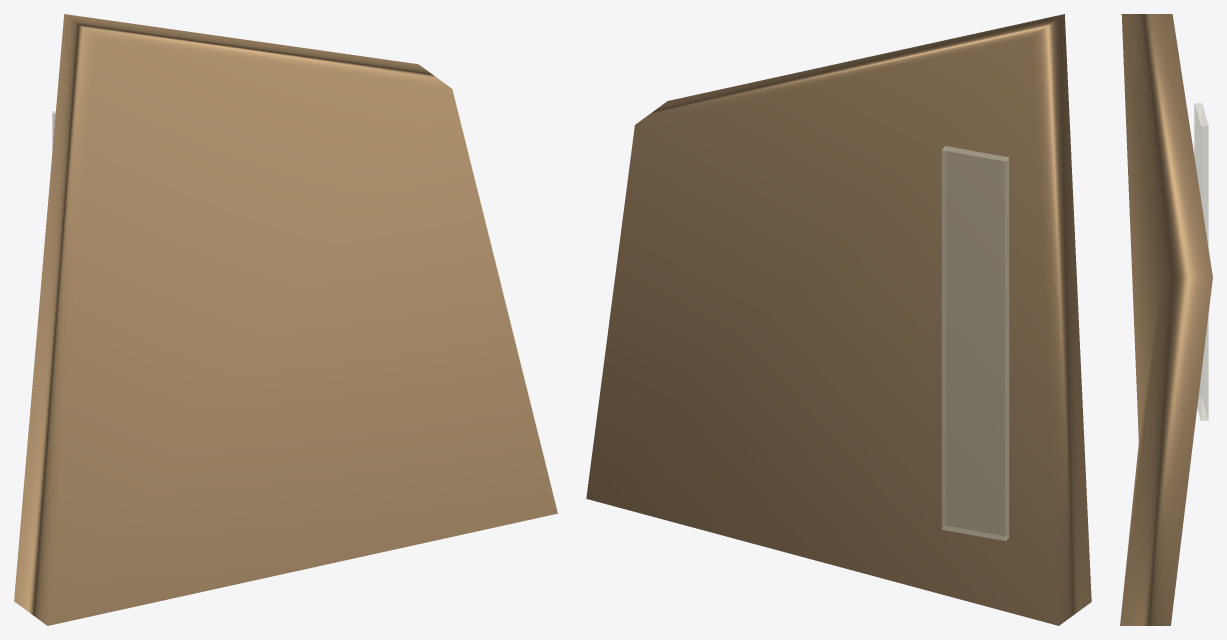
The model's file is cardboard_fin_warped.glb.
The picture shows the model from 3 angles, left to right: view 1: azimuth 30°, elevation 25°; view 2: azimuth 150°, elevation 25°; view 3: azimuth 270°, elevation 25°; orthographic projection. The views are drawn at different scales.
Parts seen in each view (by area): view 1: RW3_Cardboard_Fin_Warped; view 2: RW3_Cardboard_Fin_Warped, RW3_Fin_Tape_Warped; view 3: RW3_Cardboard_Fin_Warped, RW3_Fin_Tape_Warped.
Boxes of the visible parts, x1,y1,x2,y2 form: RW3_Cardboard_Fin_Warped: (14,14,557,625); RW3_Cardboard_Fin_Warped: (586,14,1091,625); RW3_Fin_Tape_Warped: (941,146,1009,540); RW3_Cardboard_Fin_Warped: (1120,14,1212,625); RW3_Fin_Tape_Warped: (1194,103,1208,420).
Size of the model in its own units: 0.64 by 0.72 by 0.137.
